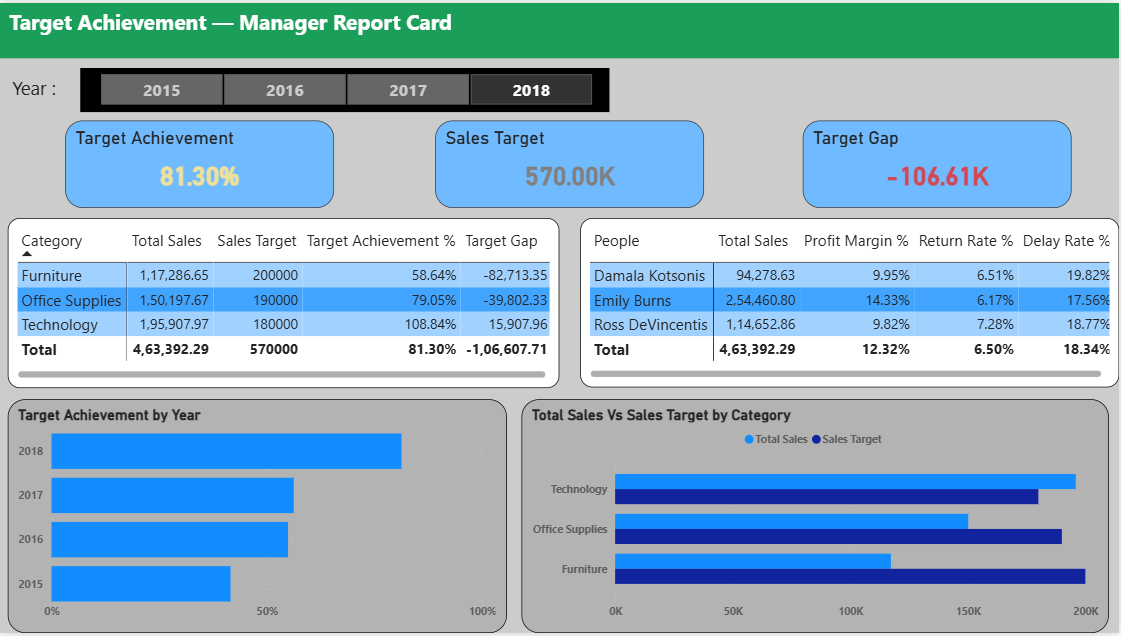

This screenshot's page, from the dashboard's own definition file:
{"tool":"powerbi","page":{"name":"Page 2","canvas":[1280,720],"ordinal":1},"visuals":[{"type":"textbox","box":[0,0,1280,62.9],"z":0},{"type":"slicer","fields":{"Values":["Date.Year"]},"box":[92.5,73.8,605,50],"z":1000},{"type":"card","title":"Target Achievement","fields":{"Values":["_Measures.Target Achievement %"]},"box":[75.7,134.3,307.1,100],"z":2000},{"type":"card","title":"Sales Target","fields":{"Values":["_Measures.Sales Target"]},"box":[498.6,134.3,307.1,100],"z":3000},{"type":"card","title":"Target Gap","fields":{"Values":["_Measures.Target Gap"]},"box":[918.6,134.3,307.1,100],"z":4000},{"type":"pivotTable","fields":{"Rows":["orders.Category"],"Values":["_Measures.Total Sales","_Measures.Sales Target","_Measures.Target Achievement %","_Measures.Target Gap"]},"box":[10,245.7,630,194.3],"z":5000},{"type":"clusteredBarChart","title":"Total Sales Vs Sales Target by Category","fields":{"Category":["orders.Category"],"Y":["_Measures.Total Sales","_Measures.Sales Target"]},"box":[597.1,452.9,671.4,267.1],"z":6000},{"type":"clusteredBarChart","title":"Target Achievement by Year","fields":{"Category":["Date.Year"],"Y":["_Measures.Target Achievement %"]},"box":[10,452.9,570,267.1],"z":7000},{"type":"pivotTable","fields":{"Rows":["People.People"],"Values":["_Measures.Total Sales","_Measures.Profit Margin %","_Measures.Return Rate %","_Measures.Delay Rate %"]},"box":[663.8,245,616.2,193.8],"z":8000},{"type":"textbox","box":[10,77.5,100,43.8],"z":9000}]}

Visuals, with their boxes in screenshot pixels (x1, y1, x2, y2), scaled from the page's 1280x720 canvas onto the 1121x636 screenshot:
textbox: {"left": 0, "top": 0, "right": 1120, "bottom": 56}
slicer - Date.Year: {"left": 81, "top": 65, "right": 611, "bottom": 109}
"Target Achievement" card: {"left": 66, "top": 119, "right": 335, "bottom": 207}
"Sales Target" card: {"left": 437, "top": 119, "right": 706, "bottom": 207}
"Target Gap" card: {"left": 804, "top": 119, "right": 1073, "bottom": 207}
pivotTable - orders.Category x _Measures.Total Sales: {"left": 9, "top": 217, "right": 560, "bottom": 389}
"Total Sales Vs Sales Target by Category" clusteredBarChart: {"left": 523, "top": 400, "right": 1111, "bottom": 635}
"Target Achievement by Year" clusteredBarChart: {"left": 9, "top": 400, "right": 508, "bottom": 635}
pivotTable - People.People x _Measures.Total Sales: {"left": 581, "top": 216, "right": 1120, "bottom": 388}
textbox: {"left": 9, "top": 68, "right": 96, "bottom": 107}
